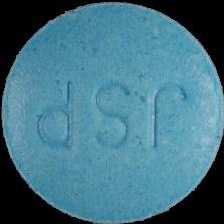51138-046: (0, 0, 224, 224)
